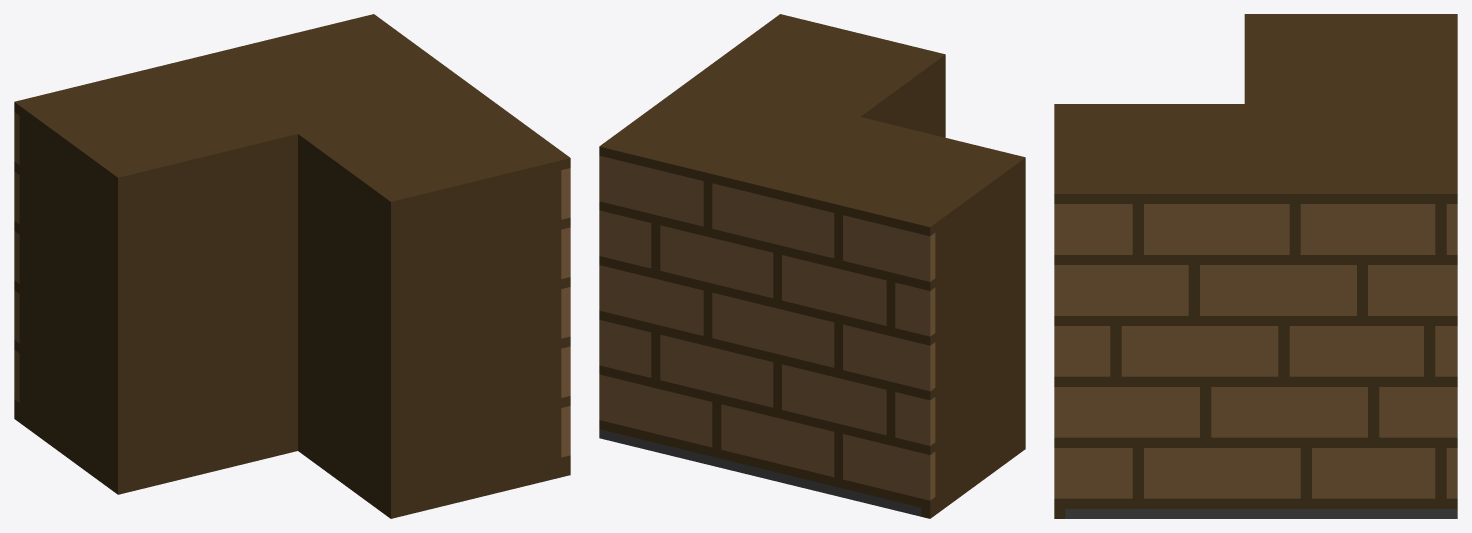
File: Roof_walls-0.obj
3 renders of one model, left to right at view 1: azimuth 30°, elevation 25°; view 2: azimuth 150°, elevation 25°; view 3: azimuth 270°, elevation 25°, orthographic. The views are drawn at different scales.
Size of the model in its own units: 3.8 by 3.2 by 3.6.
1 material, 1 textured.
